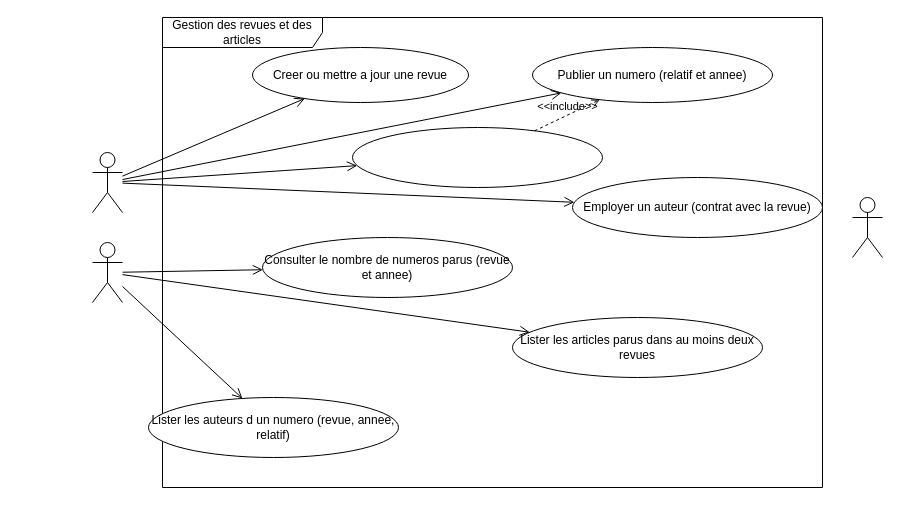
The diagram is 902 pixels wide and 505 high, and some of its shapes have lost their labels. The centre of each missing label's shape, as x and y in pixels:
"Associer un article a un numero (parution)" belongs at point 477,157.
"Auteur" belongs at point 867,227.
"Lecteur ou service documentation" belongs at point 107,272.
"Redacteur en chef" belongs at point 107,182.
